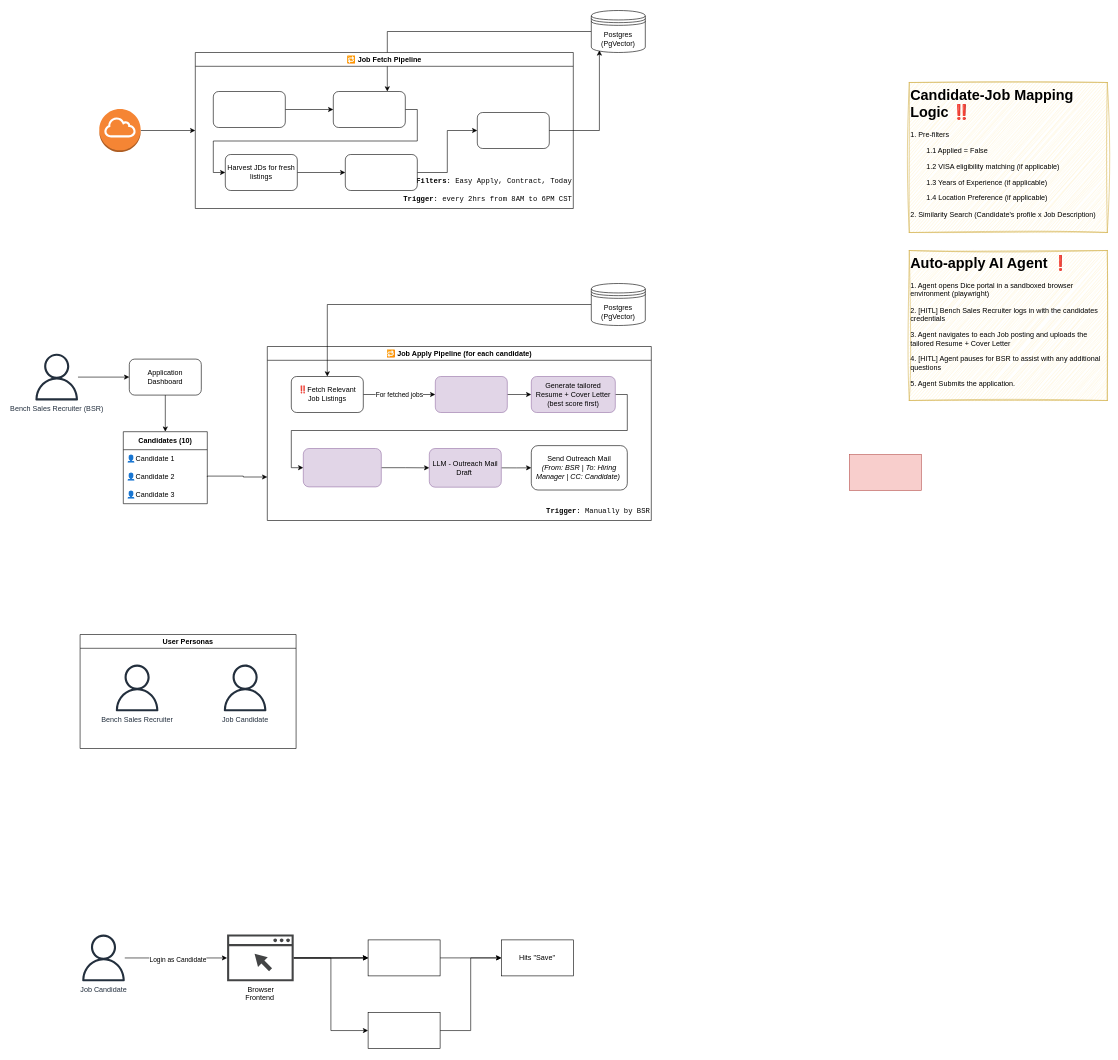
Image size: 1118x1060. Some labels were removed from this diagram. Each missing label, with the centre of its shape:
[PENDING] Candidate Profile Entry Flow: point 885,472
Dedup using PositionID: point 369,109
Dice Portal: point 120,130
Enters profile information: point 404,957
Fetch Latest Job Listings: point 249,109
Generate embeddings for JDs: point 381,172
LLM - Fitment Score (for ranking): point 471,394
Set Target Role Keywords: point 404,1030
Upsert fresh Job listings with their JDs and embeddings: point 513,130
❗AI Agent - Auto-apply to the Job: point 342,467
